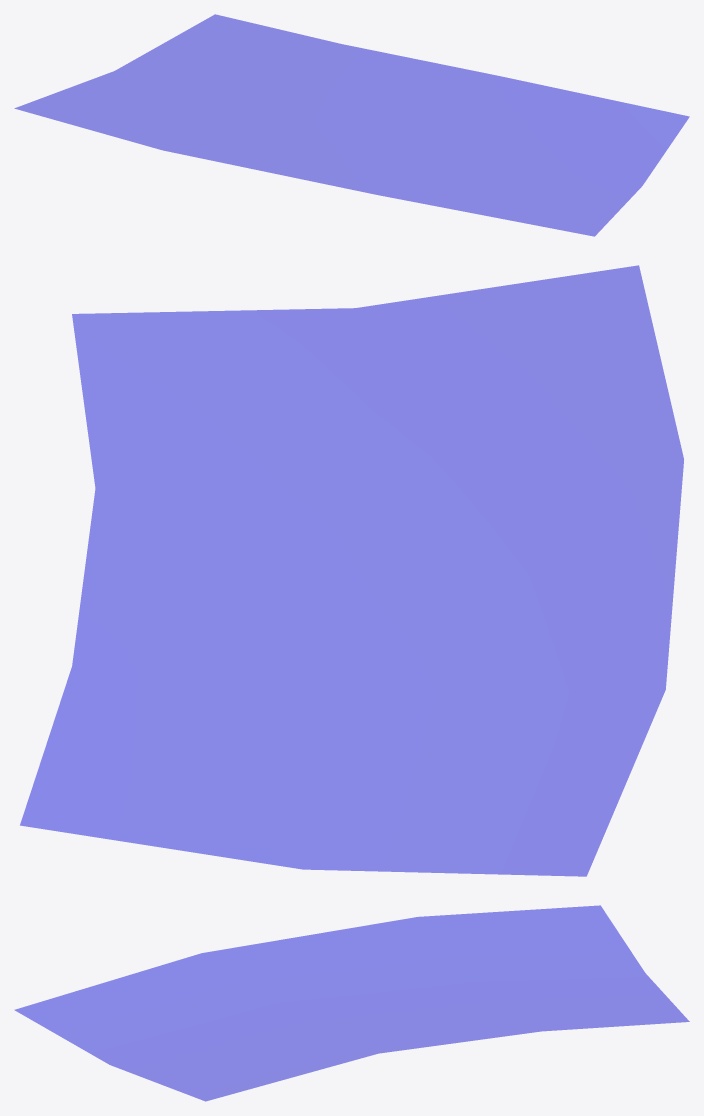
File: track_la_coll_road_36.fbx
The picture shows the model from 3 angles, top to bottom: view 1: azimuth 30°, elevation 25°; view 2: azimuth 150°, elevation 25°; view 3: azimuth 270°, elevation 25°; orthographic projection. The views are drawn at different scales.
Parts seen in each view (by area): view 1: track_la_coll_road_36; view 2: track_la_coll_road_36; view 3: track_la_coll_road_36.
Boxes of the visible parts, bbox=[...] form: track_la_coll_road_36: bbox=[14, 14, 689, 236]; track_la_coll_road_36: bbox=[20, 265, 683, 876]; track_la_coll_road_36: bbox=[15, 905, 689, 1101].
Bounding box in the file's own units: 39.3 × 2.89 × 50.58.
